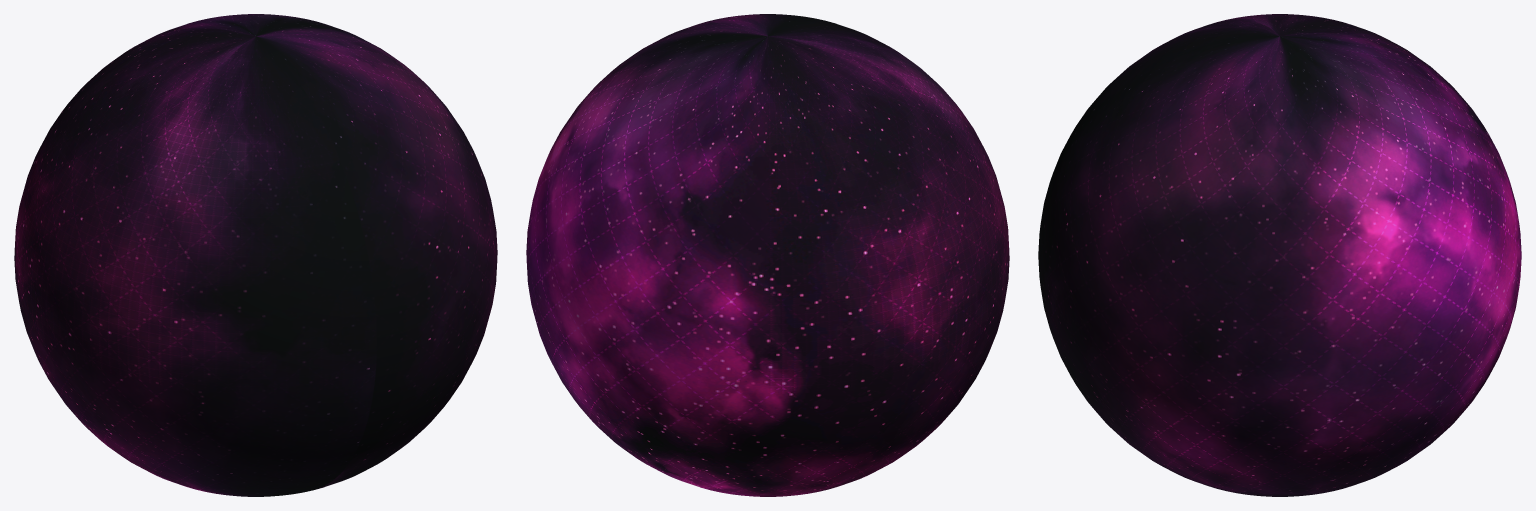
Rendered from vhs_mega_set_fbx_v1.1_free_low_poly.glb.
The picture shows the model from 3 angles, left to right: view 1: azimuth 30°, elevation 25°; view 2: azimuth 150°, elevation 25°; view 3: azimuth 270°, elevation 25°; orthographic projection.
Parts seen in each view (by area): view 1: Sphere; view 2: Sphere; view 3: Sphere.
Boxes of the visible parts, x1,y1,x2,y2 form: Sphere: (14, 14, 497, 496); Sphere: (526, 14, 1009, 496); Sphere: (1038, 14, 1521, 496).
Size of the model in its own units: 5041 by 5041 by 5041.
11 materials, 11 textured.
